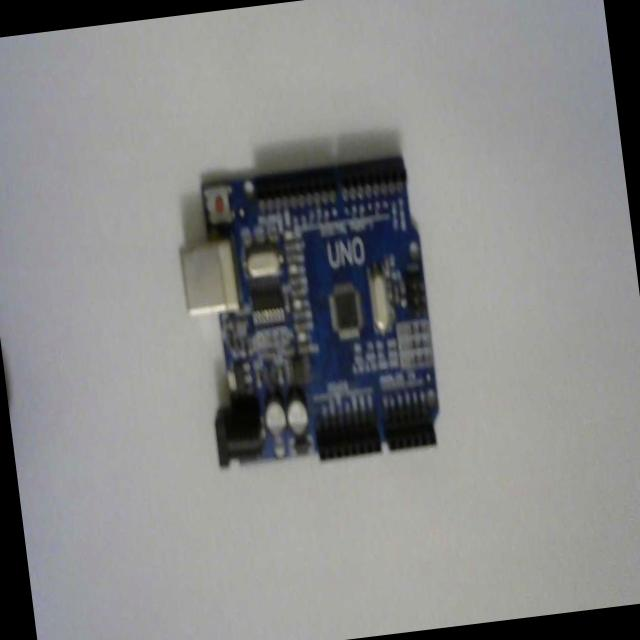arduino: (167, 143, 450, 480)
